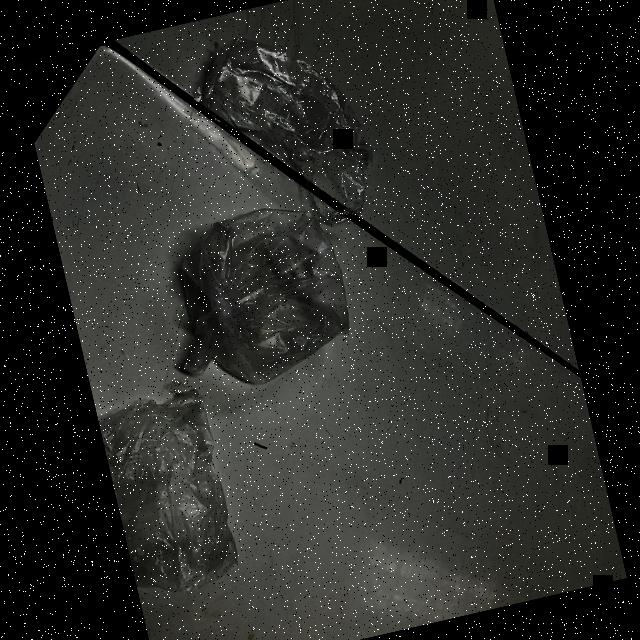plastic_bag: (184, 0, 398, 252), (150, 175, 365, 404)
scrap_plastic: (95, 384, 246, 606)
